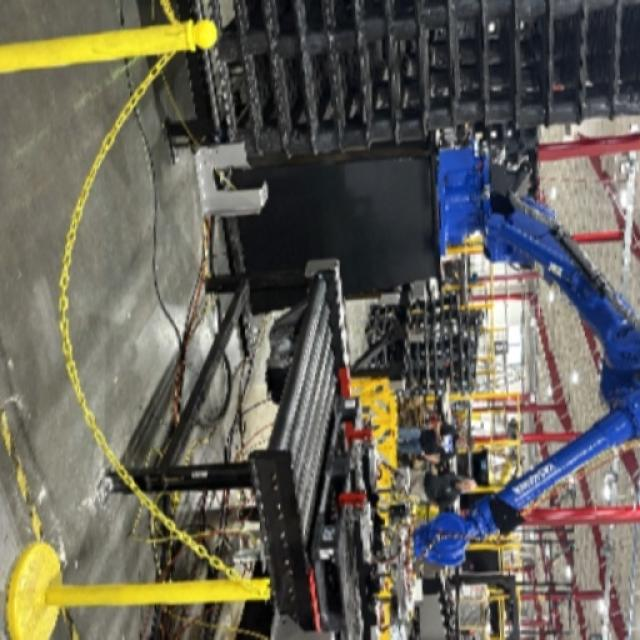igps: (305, 391, 389, 640), (189, 0, 264, 167), (241, 0, 294, 164), (269, 0, 319, 165), (301, 0, 342, 160), (328, 0, 368, 158), (390, 0, 427, 150), (357, 0, 391, 156), (513, 0, 549, 135), (484, 0, 518, 138), (452, 0, 487, 134), (580, 0, 615, 131), (425, 0, 456, 141), (549, 0, 581, 134), (611, 0, 639, 125), (450, 289, 464, 396), (433, 291, 446, 399), (424, 291, 437, 399), (457, 306, 471, 398), (441, 288, 454, 381), (363, 300, 379, 373), (469, 299, 481, 396), (406, 297, 417, 400), (416, 296, 427, 398), (384, 300, 396, 371), (378, 303, 388, 372)
